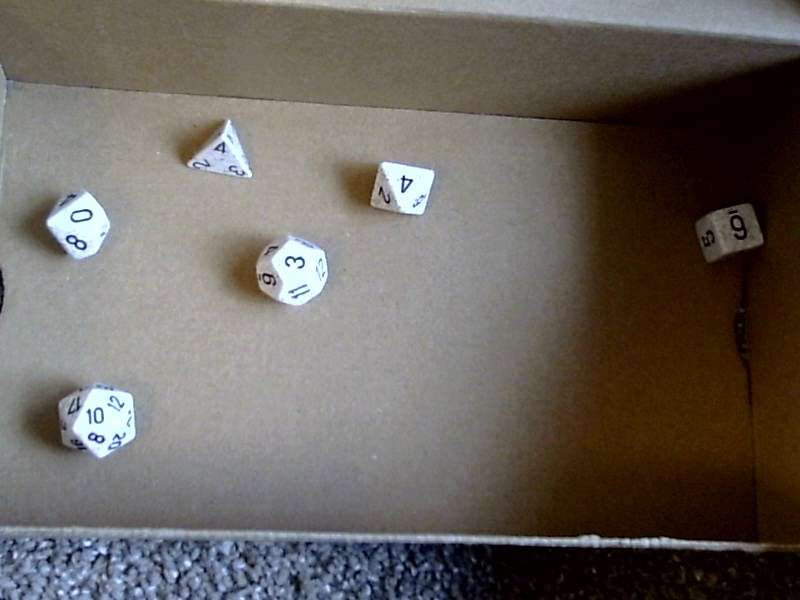d10 10: (38, 183, 122, 264)
d12 3: (246, 230, 335, 309)
d20 10: (47, 376, 142, 461)
d4 4: (178, 114, 258, 185)
d6 6: (692, 191, 769, 272)
d8 4: (366, 155, 433, 221)
